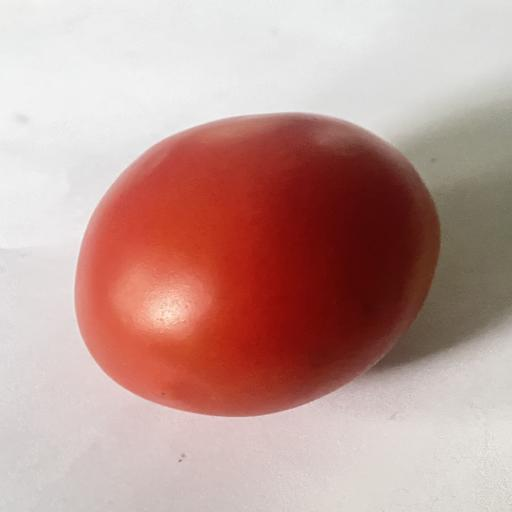ripe: (75, 113, 440, 416)
